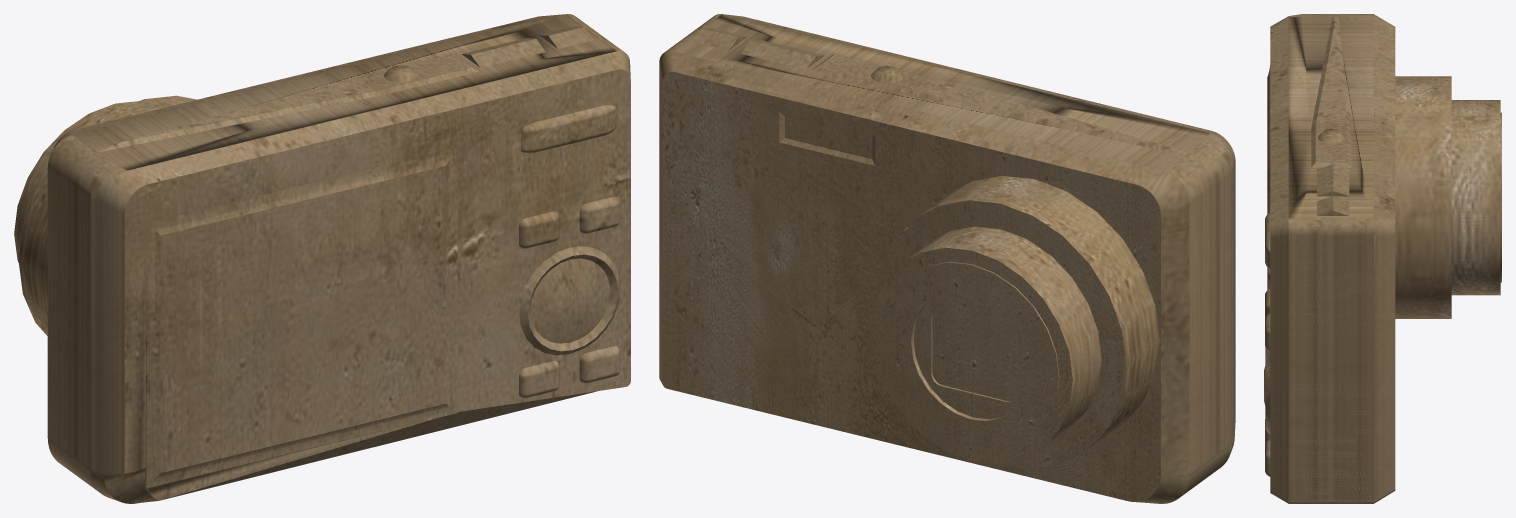
3 renders of one model, left to right at view 1: azimuth 30°, elevation 25°; view 2: azimuth 150°, elevation 25°; view 3: azimuth 270°, elevation 25°, orthographic. The views are drawn at different scales.
Parts seen in each view (by area): view 1: mesh1_mesh1-geometry, mesh3_mesh3-geometry, mesh2_mesh2-geometry; view 2: mesh1_mesh1-geometry, mesh3_mesh3-geometry, mesh2_mesh2-geometry; view 3: mesh1_mesh1-geometry, mesh3_mesh3-geometry, mesh2_mesh2-geometry.
Part boxes in pixels (x1,y1,x2,y2): mesh1_mesh1-geometry: [14, 14, 630, 503]; mesh3_mesh3-geometry: [462, 38, 545, 67]; mesh2_mesh2-geometry: [539, 26, 593, 48]; mesh1_mesh1-geometry: [659, 14, 1235, 503]; mesh3_mesh3-geometry: [741, 39, 824, 69]; mesh2_mesh2-geometry: [693, 28, 747, 50]; mesh1_mesh1-geometry: [1264, 14, 1501, 503]; mesh3_mesh3-geometry: [1317, 164, 1349, 196]; mesh2_mesh2-geometry: [1317, 196, 1349, 215].
Bounding box in the file's own units: 0.7918 × 0.4898 × 0.3648.
